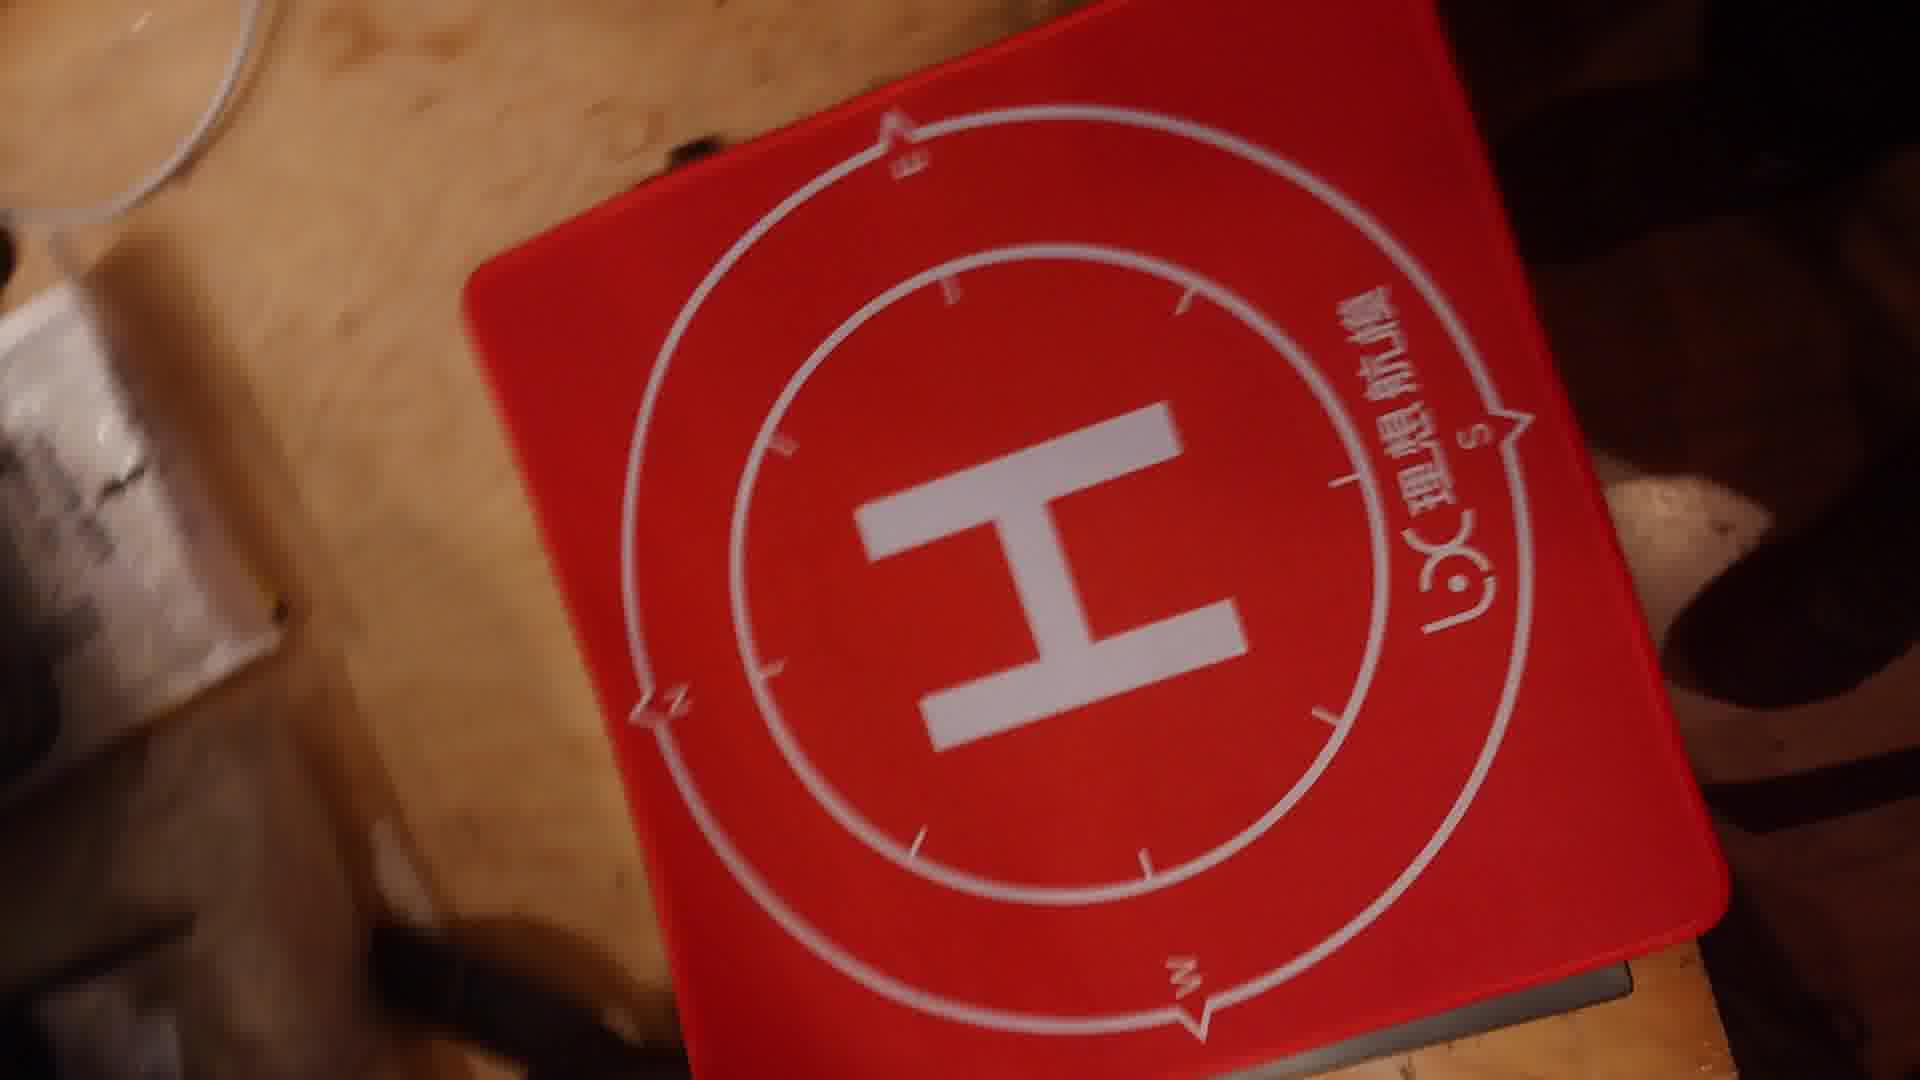H: (851, 396, 1251, 756)
